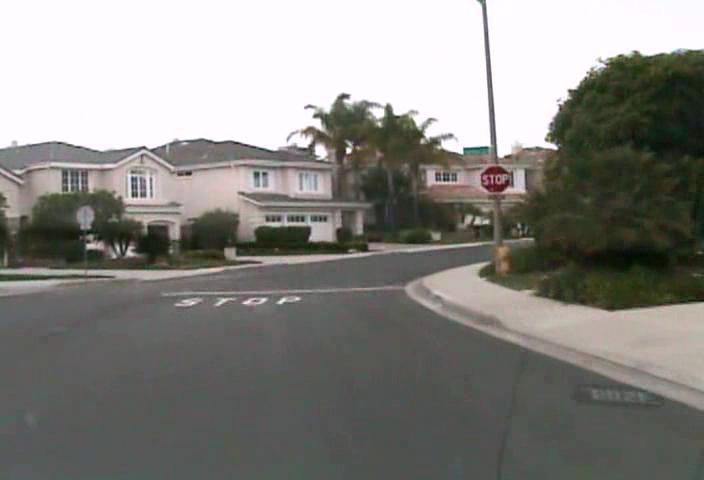stop: (479, 164, 511, 194)
